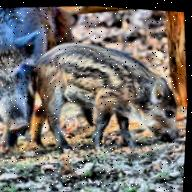boar: (20, 19, 191, 190)
